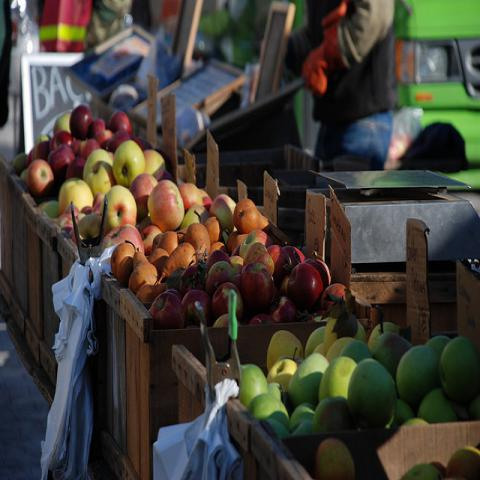truck: (392, 0, 479, 192)
